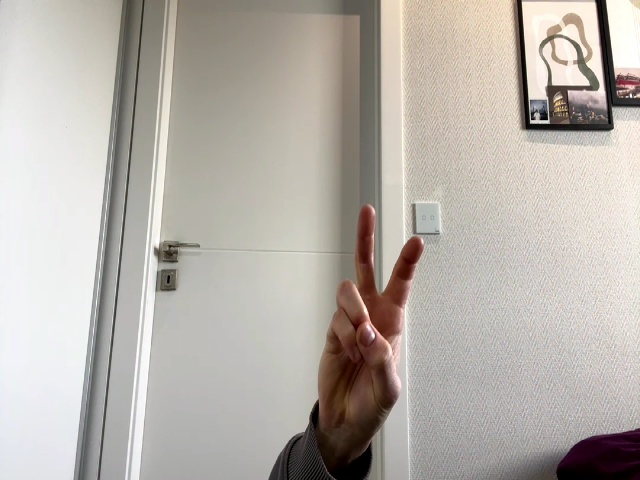H: (317, 204, 424, 439)
